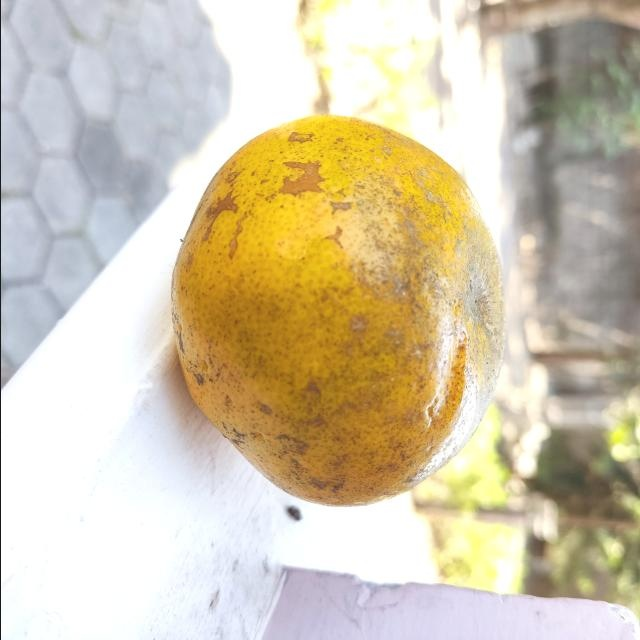agrume: (168, 112, 508, 510)
